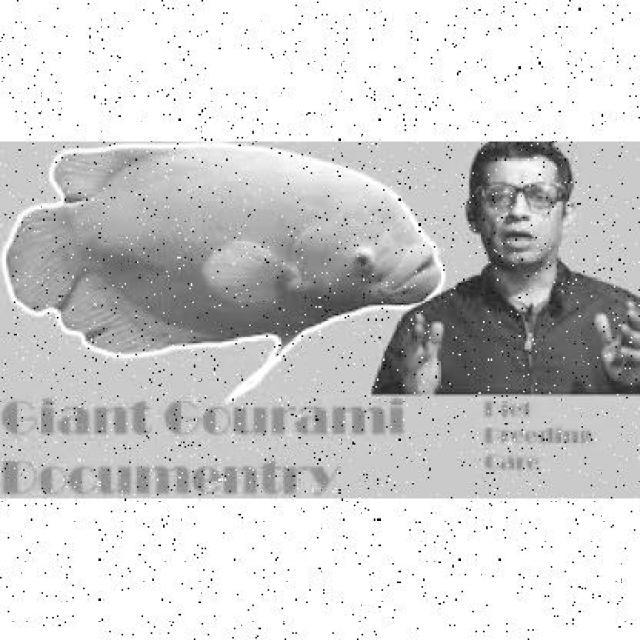gurame: (6, 140, 448, 368)
